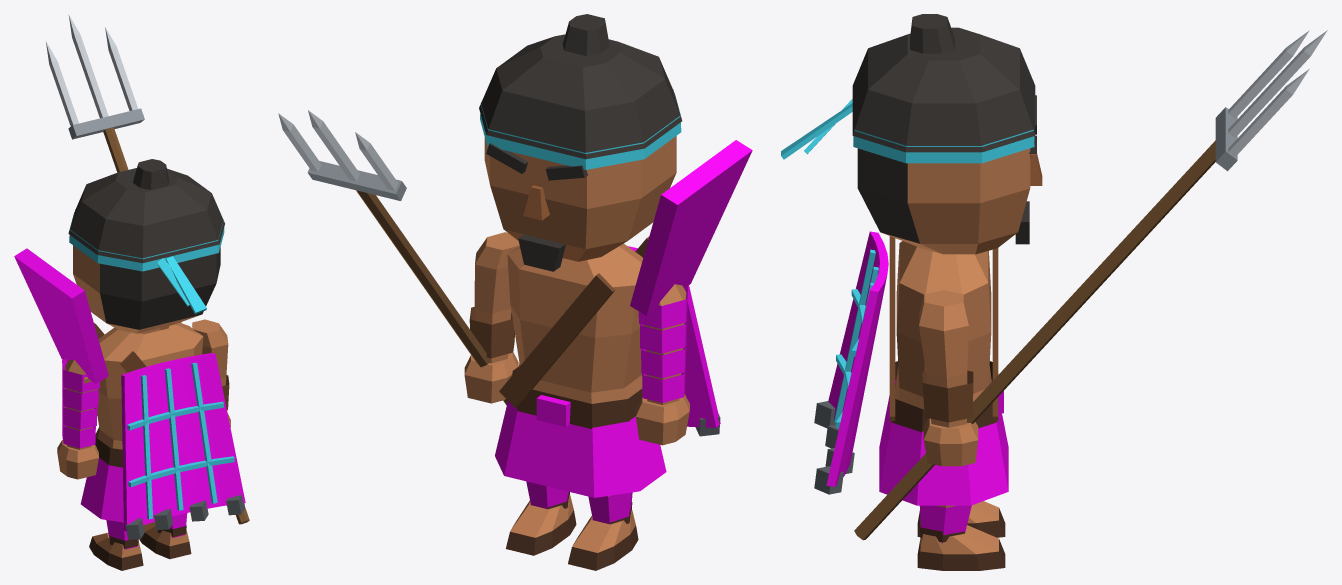
Rendered from CH_NetWeaver_PearlDiver.fbx.
The picture shows the model from 3 angles, left to right: view 1: azimuth 30°, elevation 25°; view 2: azimuth 150°, elevation 25°; view 3: azimuth 270°, elevation 25°; orthographic projection. The views are drawn at different scales.
Visible parts, largest first — view 1: Body, Head, ArmR, ArmL, LegL, LegR; view 2: Body, Head, ArmR, ArmL, LegL, LegR; view 3: Head, Body, ArmR, LegR, LegL.
Boxes of the visible parts, x1,y1,x2,y2 form: Body: [14, 248, 245, 539]; Head: [68, 159, 224, 333]; ArmR: [46, 14, 249, 524]; ArmL: [57, 359, 99, 479]; LegL: [89, 520, 143, 570]; LegR: [139, 513, 191, 559]; Body: [495, 140, 752, 497]; Head: [479, 14, 682, 271]; ArmR: [278, 110, 519, 405]; ArmL: [636, 284, 689, 445]; LegL: [568, 492, 638, 570]; LegR: [506, 481, 576, 555]; Head: [781, 14, 1042, 254]; Body: [814, 231, 1008, 505]; ArmR: [854, 30, 1327, 540]; LegR: [917, 505, 1005, 570]; LegL: [917, 501, 1005, 537].
Size of the model in its own units: 0.8955 by 1.56 by 1.76.
